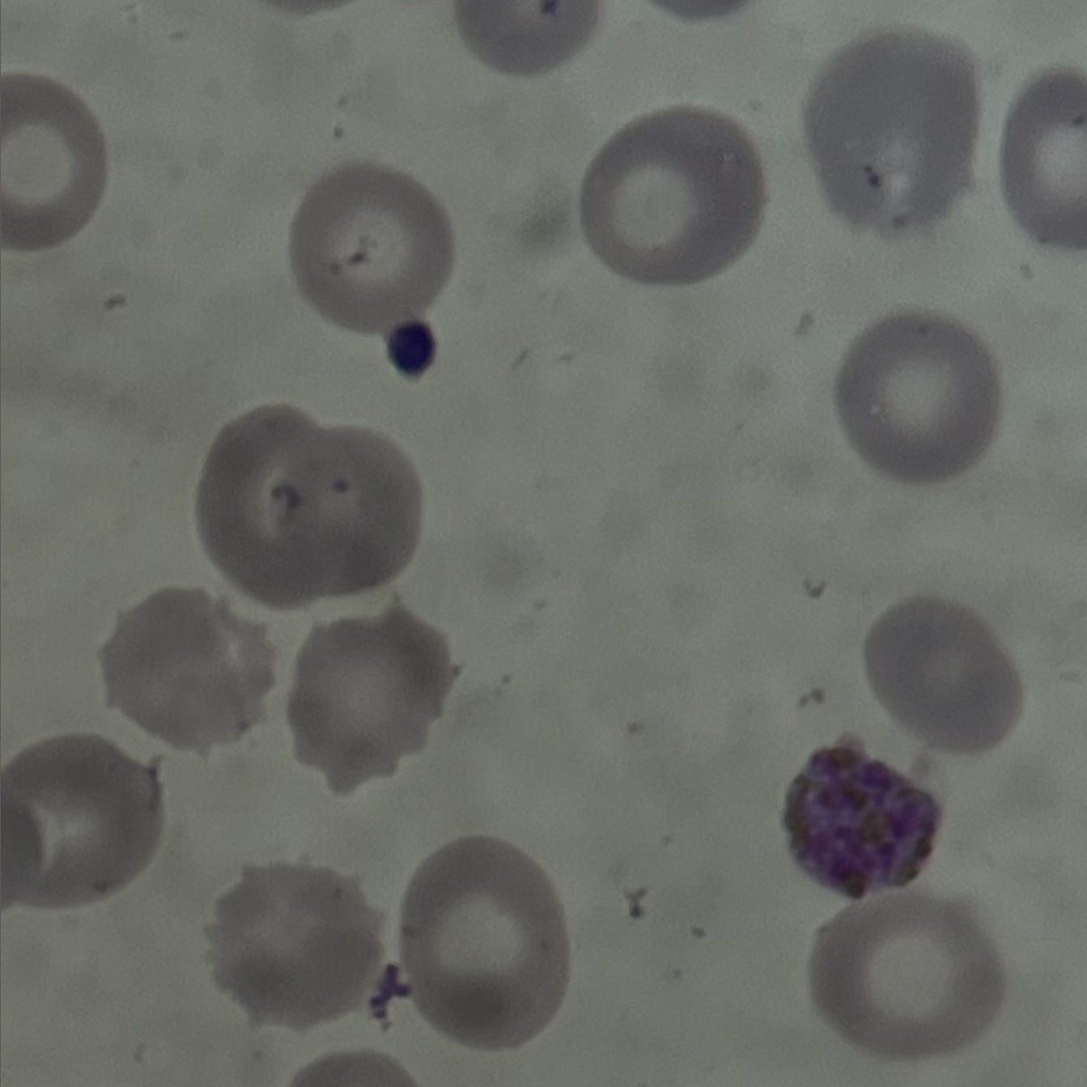Infected: (780, 735, 938, 906)
Uninfected: (807, 28, 983, 239), (283, 598, 465, 797), (577, 103, 765, 285), (405, 837, 566, 1048), (100, 578, 276, 759), (834, 308, 1008, 489), (812, 891, 1005, 1050), (0, 737, 172, 912), (286, 157, 454, 336), (210, 862, 382, 1036), (861, 594, 1035, 759), (202, 403, 339, 609), (283, 427, 425, 602), (0, 74, 109, 244)
